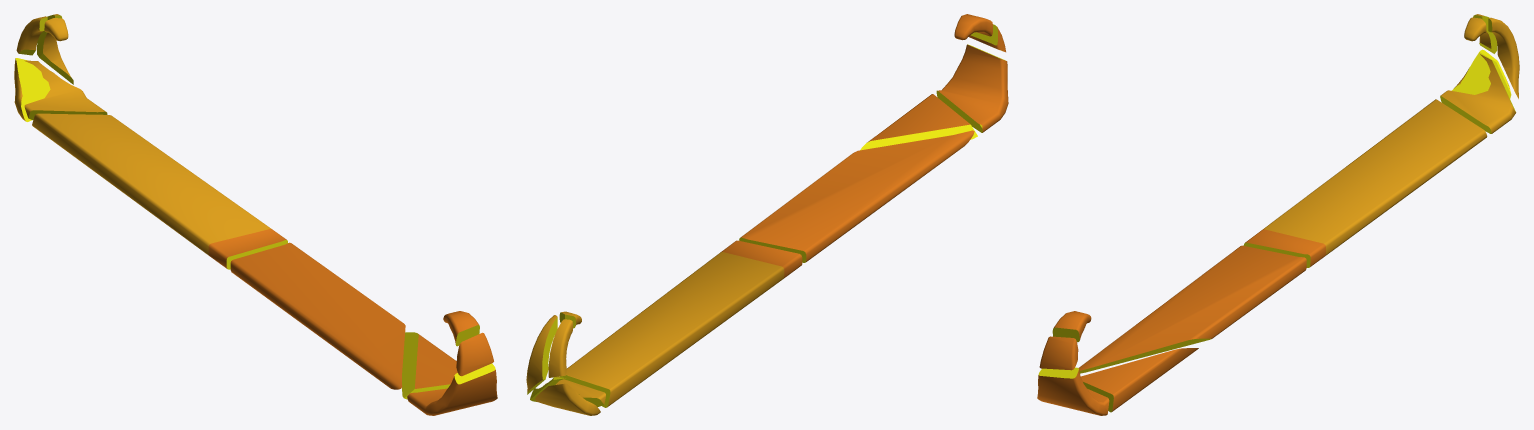
Rendered from Structure_Tower_Knight_Human_03_debris_cells_rooftop_top_ornament.fbx.
The picture shows the model from 3 angles, left to right: view 1: azimuth 30°, elevation 25°; view 2: azimuth 150°, elevation 25°; view 3: azimuth 330°, elevation 25°; orthographic projection.
Visible parts, largest first — view 1: Structure_Tower_Knight_Human_03.004_cell.004, Structure_Tower_Knight_Human_03.004_cell.007, Structure_Tower_Knight_Human_03.004_cell.003, Structure_Tower_Knight_Human_03.004_cell.002, Structure_Tower_Knight_Human_03.004_cell.010, Structure_Tower_Knight_Human_03.004_cell.006, Structure_Tower_Knight_Human_03.004_cell, Structure_Tower_Knight_Human_03.004_cell.001, Structure_Tower_Knight_Human_03.004_cell.008, Structure_Tower_Knight_Human_03.004_cell.009; view 2: Structure_Tower_Knight_Human_03.004_cell.004, Structure_Tower_Knight_Human_03.004_cell.007, Structure_Tower_Knight_Human_03.004_cell.003, Structure_Tower_Knight_Human_03.004_cell.002, Structure_Tower_Knight_Human_03.004_cell.001, Structure_Tower_Knight_Human_03.004_cell.006, Structure_Tower_Knight_Human_03.004_cell.009, Structure_Tower_Knight_Human_03.004_cell.010, Structure_Tower_Knight_Human_03.004_cell.008, Structure_Tower_Knight_Human_03.004_cell; view 3: Structure_Tower_Knight_Human_03.004_cell.004, Structure_Tower_Knight_Human_03.004_cell.007, Structure_Tower_Knight_Human_03.004_cell.002, Structure_Tower_Knight_Human_03.004_cell.010, Structure_Tower_Knight_Human_03.004_cell.003, Structure_Tower_Knight_Human_03.004_cell.006, Structure_Tower_Knight_Human_03.004_cell.001, Structure_Tower_Knight_Human_03.004_cell, Structure_Tower_Knight_Human_03.004_cell.008.
Boxes of the visible parts, left/top/right/bottom form: Structure_Tower_Knight_Human_03.004_cell.004: left=32, top=113, right=287, bottom=269; Structure_Tower_Knight_Human_03.004_cell.007: left=230, top=242, right=405, bottom=389; Structure_Tower_Knight_Human_03.004_cell.003: left=407, top=363, right=497, bottom=415; Structure_Tower_Knight_Human_03.004_cell.002: left=402, top=332, right=457, bottom=399; Structure_Tower_Knight_Human_03.004_cell.010: left=24, top=60, right=107, bottom=119; Structure_Tower_Knight_Human_03.004_cell.006: left=14, top=58, right=50, bottom=121; Structure_Tower_Knight_Human_03.004_cell: left=456, top=332, right=493, bottom=376; Structure_Tower_Knight_Human_03.004_cell.001: left=37, top=14, right=73, bottom=84; Structure_Tower_Knight_Human_03.004_cell.008: left=443, top=311, right=479, bottom=346; Structure_Tower_Knight_Human_03.004_cell.009: left=16, top=16, right=47, bottom=55; Structure_Tower_Knight_Human_03.004_cell.004: left=559, top=240, right=802, bottom=407; Structure_Tower_Knight_Human_03.004_cell.007: left=739, top=130, right=974, bottom=262; Structure_Tower_Knight_Human_03.004_cell.003: left=936, top=44, right=1008, bottom=132; Structure_Tower_Knight_Human_03.004_cell.002: left=860, top=94, right=977, bottom=150; Structure_Tower_Knight_Human_03.004_cell.001: left=526, top=315, right=557, bottom=394; Structure_Tower_Knight_Human_03.004_cell.006: left=535, top=383, right=600, bottom=415; Structure_Tower_Knight_Human_03.004_cell.009: left=548, top=319, right=573, bottom=377; Structure_Tower_Knight_Human_03.004_cell.010: left=530, top=376, right=605, bottom=407; Structure_Tower_Knight_Human_03.004_cell.008: left=954, top=14, right=992, bottom=40; Structure_Tower_Knight_Human_03.004_cell: left=968, top=24, right=1005, bottom=52; Structure_Tower_Knight_Human_03.004_cell.004: left=1243, top=99, right=1487, bottom=267; Structure_Tower_Knight_Human_03.004_cell.007: left=1078, top=245, right=1306, bottom=373; Structure_Tower_Knight_Human_03.004_cell.002: left=1081, top=348, right=1198, bottom=412; Structure_Tower_Knight_Human_03.004_cell.010: left=1440, top=54, right=1516, bottom=133; Structure_Tower_Knight_Human_03.004_cell.003: left=1037, top=367, right=1109, bottom=415; Structure_Tower_Knight_Human_03.004_cell.006: left=1452, top=49, right=1511, bottom=98; Structure_Tower_Knight_Human_03.004_cell.001: left=1488, top=17, right=1519, bottom=98; Structure_Tower_Knight_Human_03.004_cell: left=1039, top=336, right=1078, bottom=370; Structure_Tower_Knight_Human_03.004_cell.008: left=1052, top=311, right=1091, bottom=342.
Size of the model in its own units: 56.98 by 80.27 by 682.
